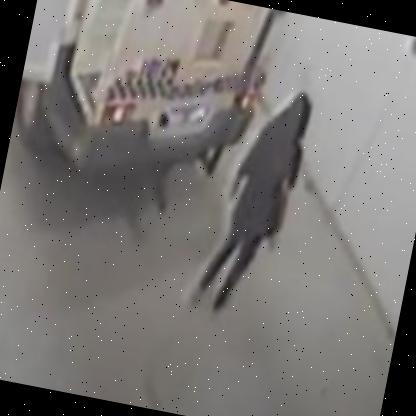person: (190, 74, 323, 327)
